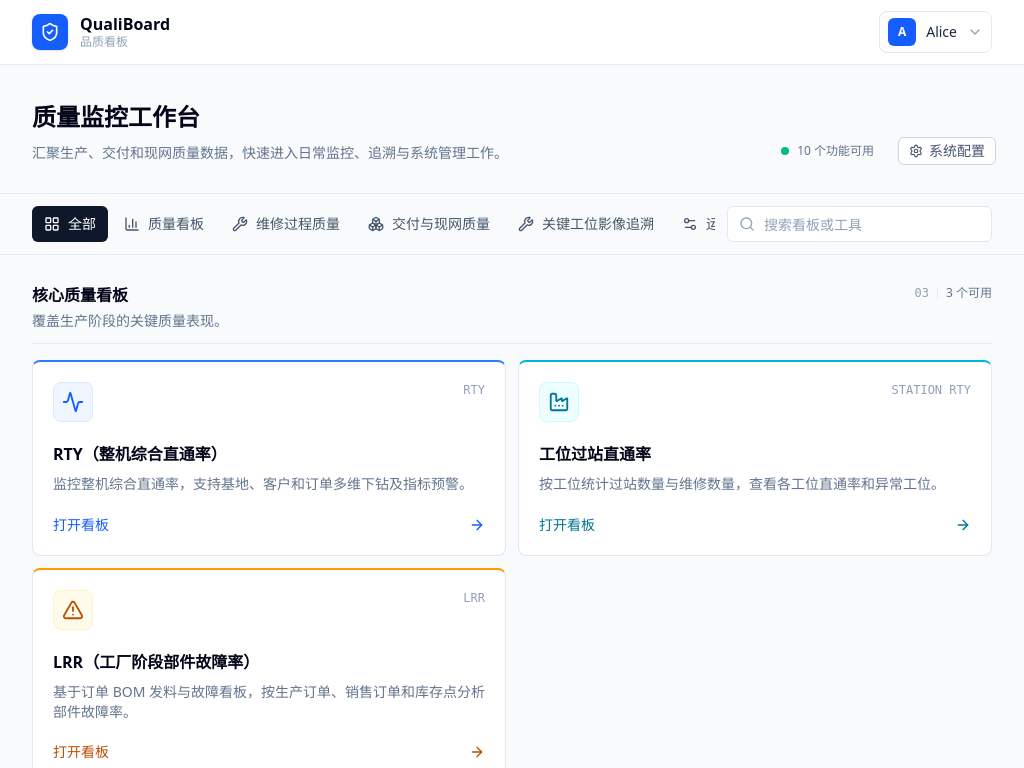
home administrator settings access › groups repair dashboards separately and supports category filtering and search
Check: the text "维修通过率分析" is not shown
Check: the text "重插率分析" is not shown
Click the tab "维修过程质量" at {"x": 286, "y": 224}, box [220,206,352,242]
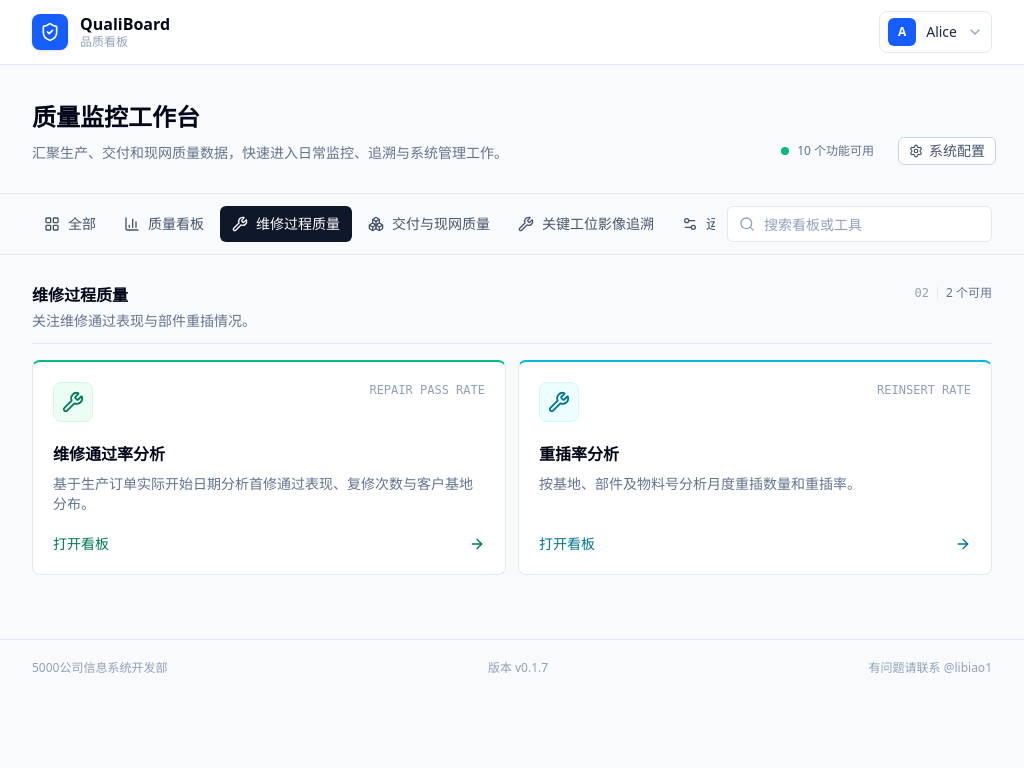
Check: the heading "核心质量看板" is gone
Type "重插" into the search field named "搜索功能" at {"x": 859, "y": 224}, box [727,206,992,242]
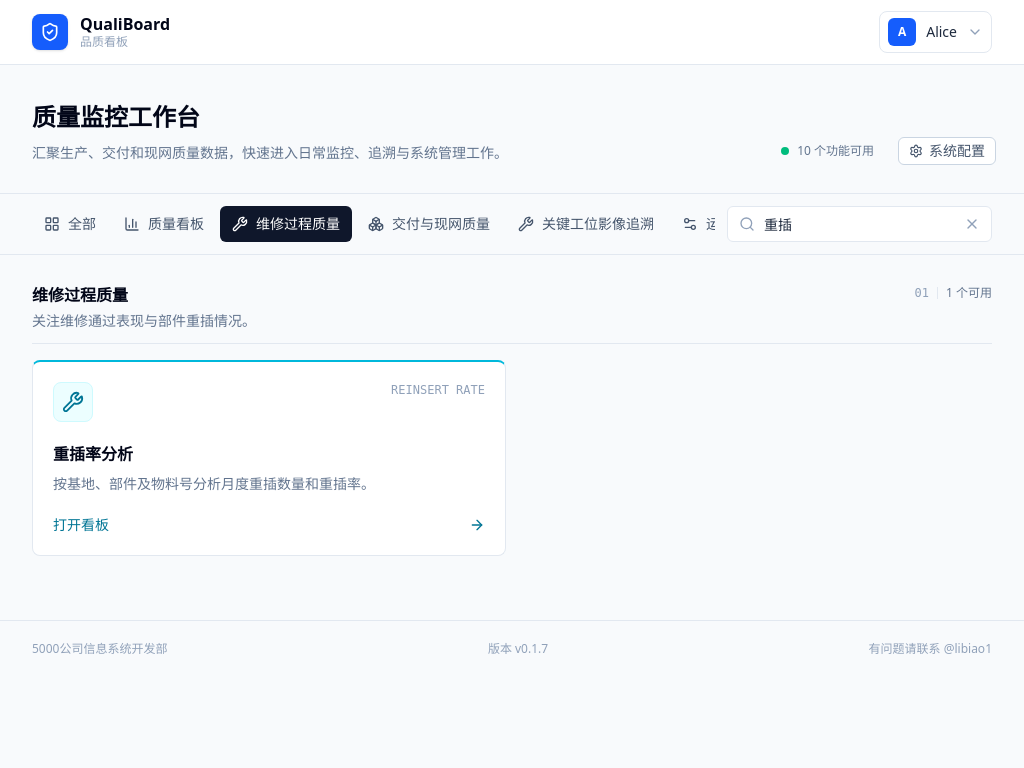
Check: the heading "重插率分析" is shown, box [53,443,133,465]
Check: the link "维修通过率分析" is gone
